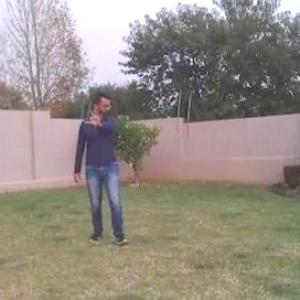follow_hand: (83, 105, 107, 128)
